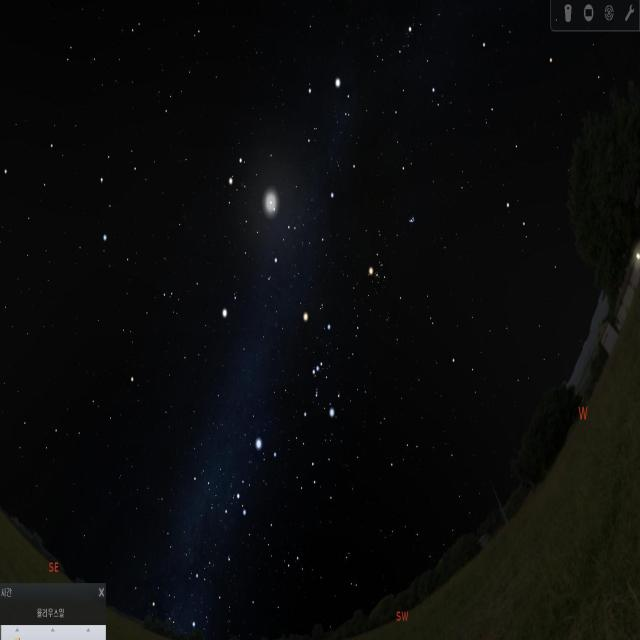canis_major: (231, 434, 280, 524)
canis_minor: (221, 286, 244, 326)
gemini: (228, 151, 298, 271)
moon: (262, 185, 280, 220)
orion: (296, 301, 344, 429)
pleiades: (405, 207, 419, 235)
taurus: (360, 196, 424, 302)
